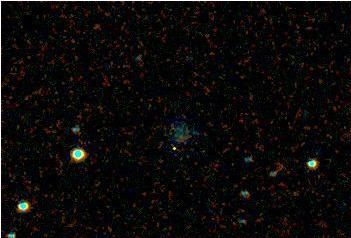star: (159, 134, 189, 164)
